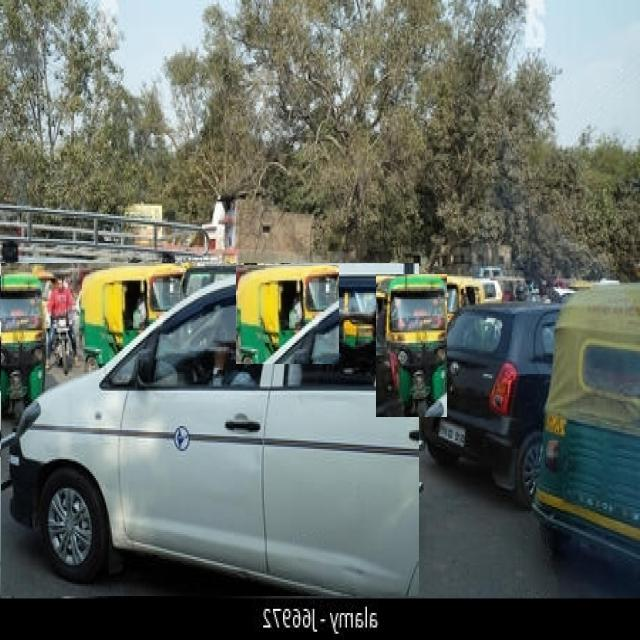autorickshaw: (236, 265, 339, 364), (376, 274, 446, 417)
car: (0, 263, 419, 596), (420, 307, 560, 506)
